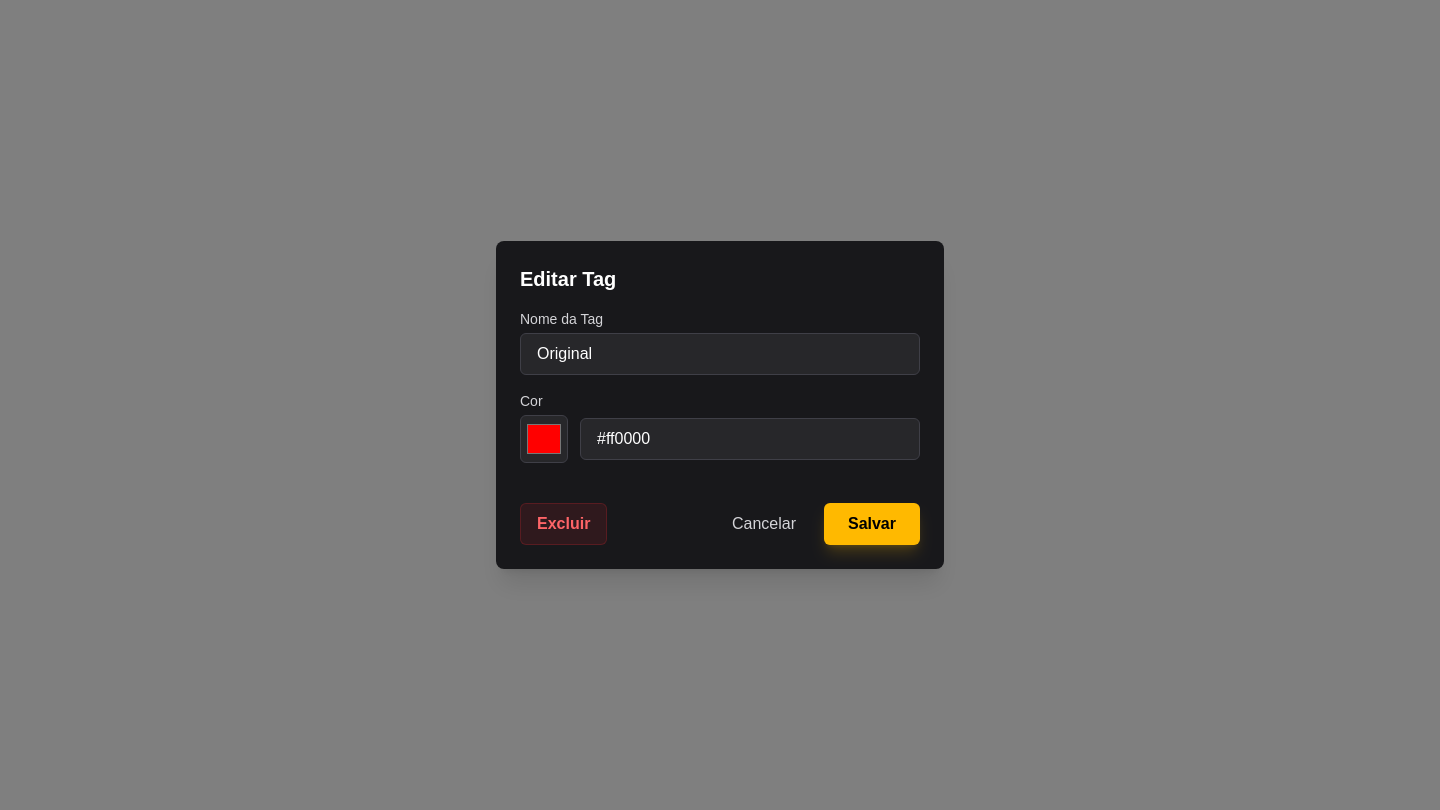
it: RF5 - Editar e Excluir Tags (Frontend) › deve exibir mensagem de erro 403 ao tentar editar tag de outro usuário
Click the button "Salvar" at (872, 524), box [824,503,920,545]
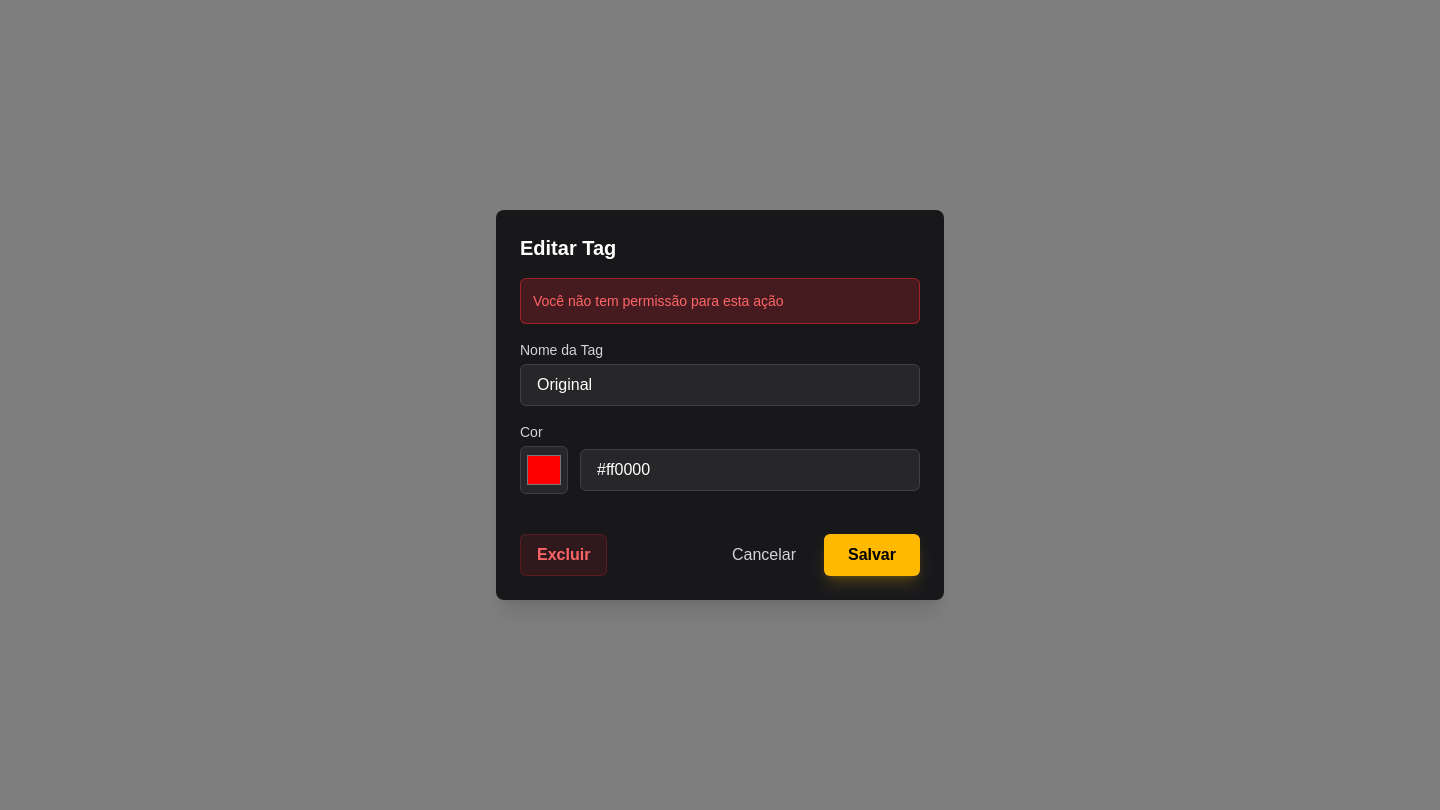
Now the text "Você não tem permissão para esta ação" is shown, box [520,278,920,324]
